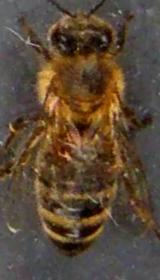varroa_mite: (50, 132, 81, 166)
